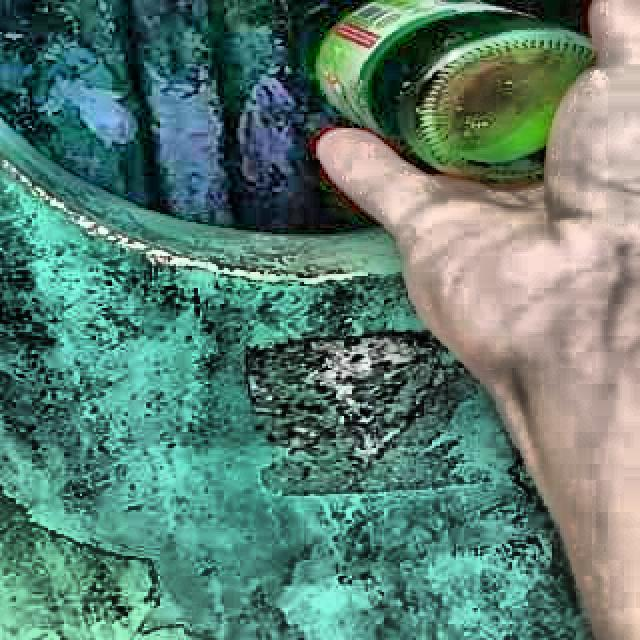glass: (307, 0, 597, 188)
